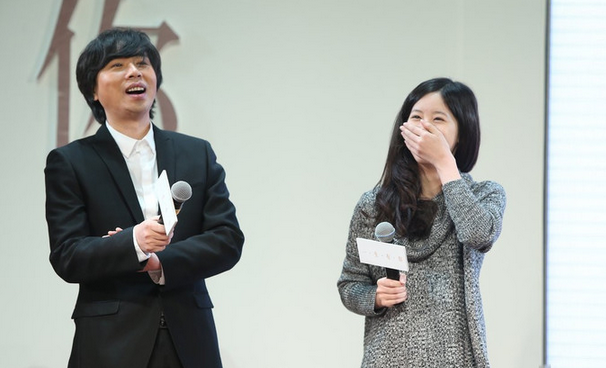face: (101, 49, 157, 116), (407, 92, 456, 164)
